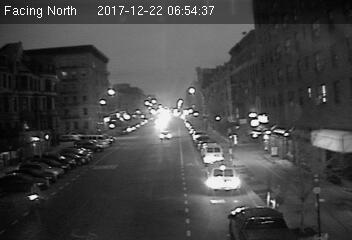car: (158, 130, 172, 141)
truck: (206, 160, 242, 193), (201, 144, 224, 162)
